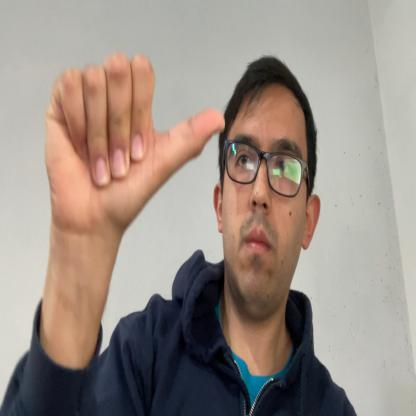A: (43, 52, 224, 236)
